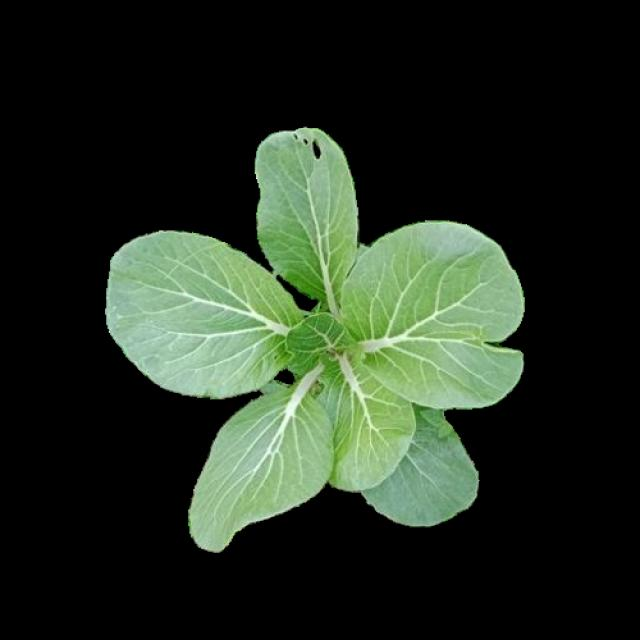not-mature: (110, 129, 526, 548)
unhealthy: (348, 221, 524, 406), (110, 230, 293, 398), (253, 128, 359, 294)
